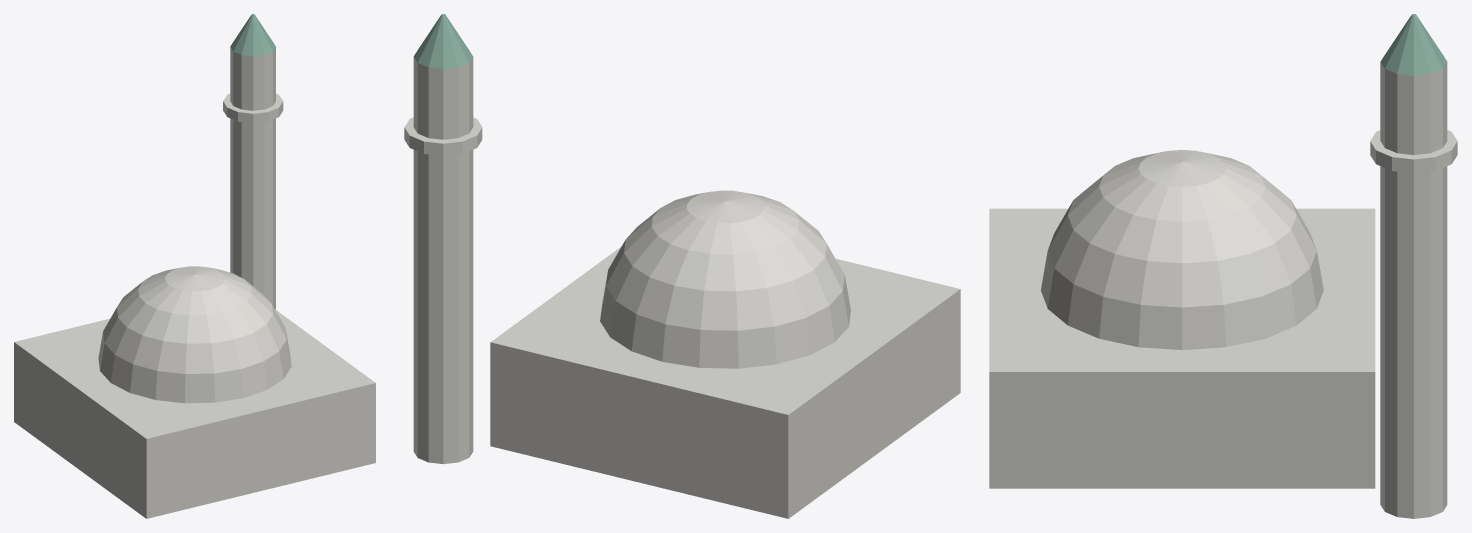
Rendered from mogadishu.glb.
3 renders of one model, left to right at view 1: azimuth 30°, elevation 25°; view 2: azimuth 150°, elevation 25°; view 3: azimuth 270°, elevation 25°, orthographic. The views are drawn at different scales.
Visible parts, largest first — view 1: Cube, Sphere, Cone, Cone.002, Cone.001; view 2: Cube, Sphere, Cone, Cone.002, Cone.001; view 3: Cube, Sphere, Cone, Cone.002, Cone.001.
Boxes of the visible parts, bbox=[...] form: Cube: bbox=[14, 309, 375, 518]; Sphere: bbox=[98, 266, 291, 403]; Cone: bbox=[230, 47, 275, 309]; Cone.002: bbox=[230, 14, 275, 56]; Cone.001: bbox=[223, 93, 283, 123]; Cube: bbox=[490, 246, 960, 518]; Sphere: bbox=[600, 190, 850, 368]; Cone: bbox=[413, 57, 473, 464]; Cone.002: bbox=[413, 14, 472, 68]; Cone.001: bbox=[404, 117, 482, 156]; Cube: bbox=[989, 208, 1375, 488]; Sphere: bbox=[1041, 150, 1323, 350]; Cone: bbox=[1380, 62, 1447, 518]; Cone.002: bbox=[1380, 14, 1447, 75]; Cone.001: bbox=[1370, 130, 1457, 173].
Size of the model in its own units: 36.4 by 42 by 36.4.
